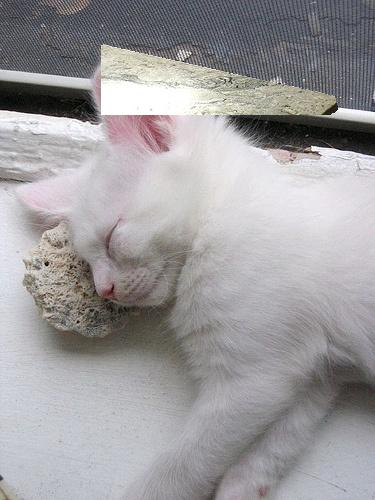tampered: (102, 45, 338, 115)
